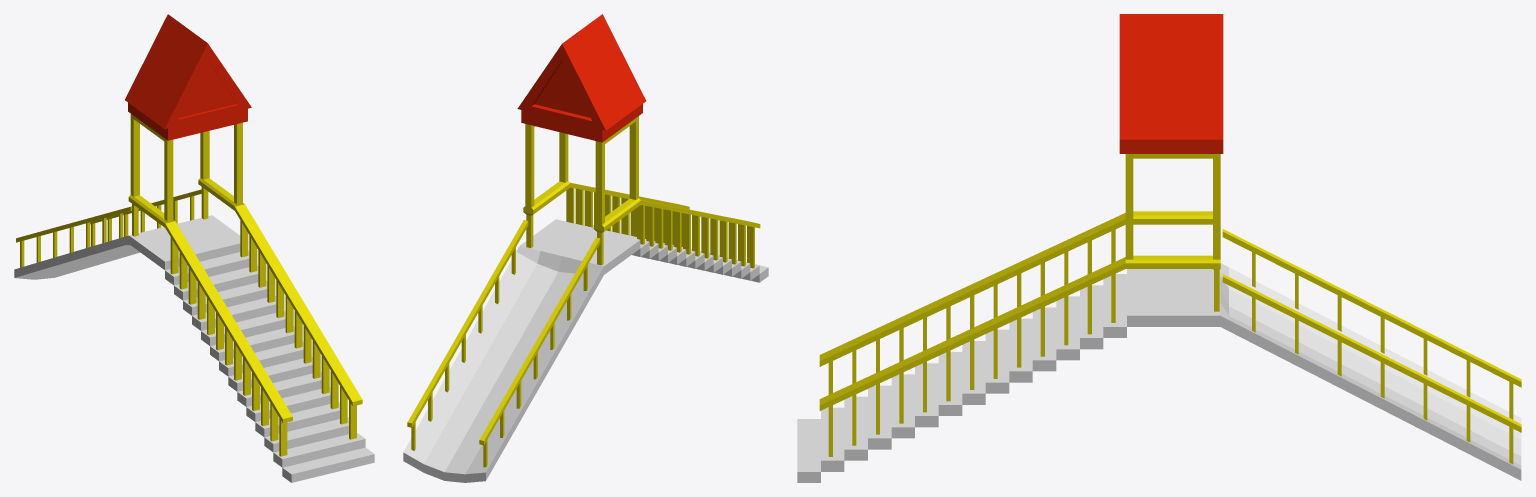
The model's file is Slider.fbx.
The picture shows the model from 3 angles, left to right: view 1: azimuth 30°, elevation 25°; view 2: azimuth 150°, elevation 25°; view 3: azimuth 270°, elevation 25°; orthographic projection. The views are drawn at different scales.
Parts seen in each view (by area): view 1: Cube.006, Cube.062, Cube.044, Cube.039, Cube.023, Cube.022; view 2: Cube.006, Cube.062, Cube.044, Cube.039, Cube.022, Cube.023; view 3: Cube.006, Cube.062, Cube.039, Cube.044, Cube.023, Cube.022.
Boxes of the visible parts, box(x1,y1,x2,y2) form: Cube.006: box(14, 215, 374, 482); Cube.062: box(125, 14, 251, 140); Cube.044: box(128, 114, 292, 456); Cube.039: box(198, 122, 362, 439); Cube.023: box(16, 206, 131, 267); Cube.022: box(90, 189, 201, 246); Cube.006: box(403, 219, 768, 482); Cube.062: box(517, 14, 646, 142); Cube.044: box(593, 116, 760, 268); Cube.039: box(523, 124, 689, 247); Cube.022: box(407, 220, 528, 450); Cube.023: box(479, 237, 600, 467); Cube.006: box(797, 263, 1521, 482); Cube.062: box(1119, 14, 1223, 153); Cube.039: box(819, 154, 1220, 456); Cube.044: box(819, 211, 1212, 394); Cube.023: box(1222, 229, 1521, 419); Cube.022: box(1222, 274, 1521, 464).
Size of the model in its own units: 90.94 by 346 by 502.
